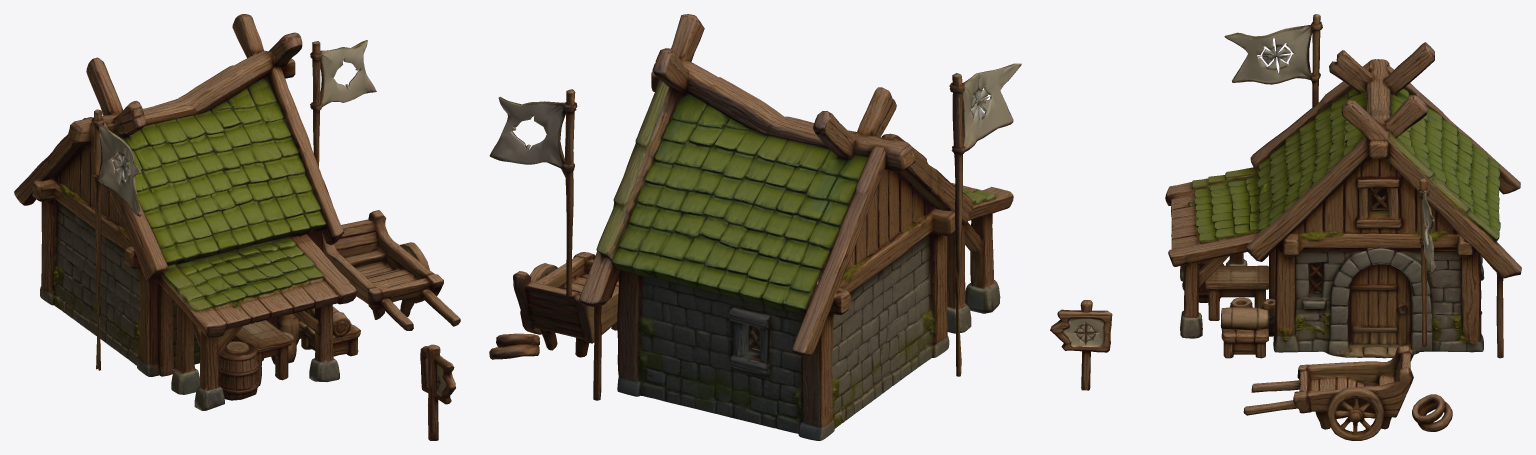
The model's file is tripo_convert_46127514-db4e-4ca6-bc81-f43c12afca68.fbx.
3 views of the same model, side by side, from view 1: azimuth 30°, elevation 25°; view 2: azimuth 150°, elevation 25°; view 3: azimuth 270°, elevation 25° (orthographic). The views are drawn at different scales.
Parts seen in each view (by area): view 1: tripo_node_46127514; view 2: tripo_node_46127514; view 3: tripo_node_46127514.
Boxes of the visible parts, x1=… form: tripo_node_46127514: x1=14, y1=14, x2=460, y2=440; tripo_node_46127514: x1=489, y1=14, x2=1021, y2=440; tripo_node_46127514: x1=1050, y1=14, x2=1521, y2=440.
Bounding box in the file's own units: 0.7913 × 0.6578 × 0.9818.
Materials: 1 (1 with a texture image).
